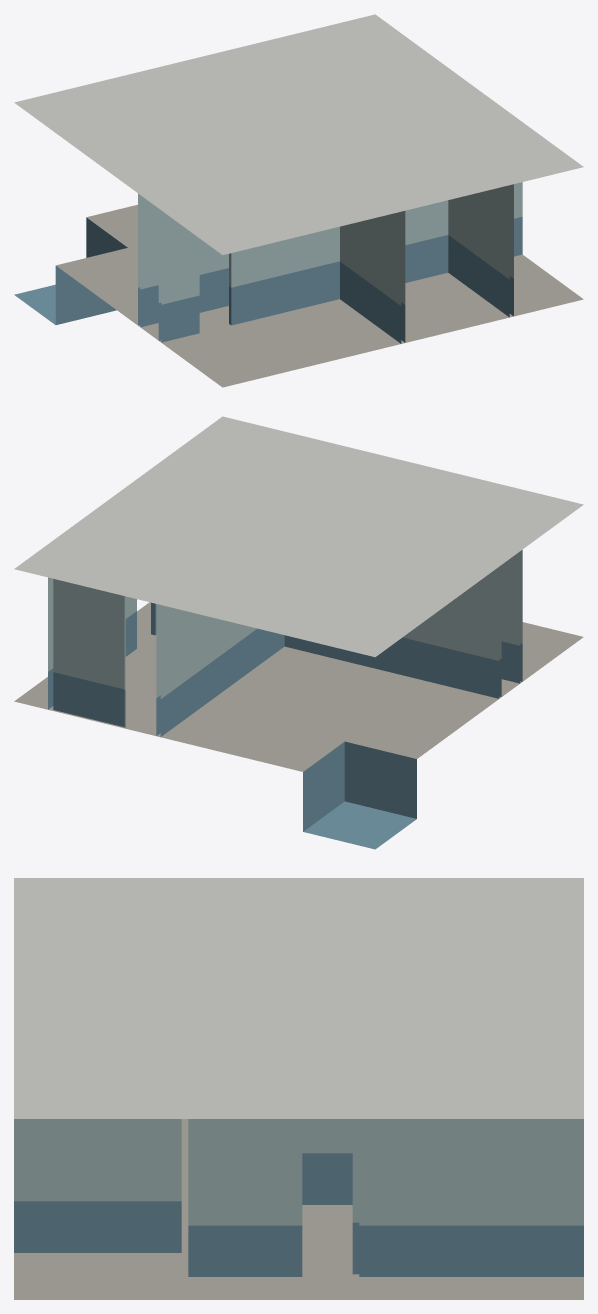
The model's file is chunk_2_1.glb.
3 views of the same model, one above another, from view 1: azimuth 30°, elevation 25°; view 2: azimuth 150°, elevation 25°; view 3: azimuth 270°, elevation 25° (orthographic). The views are drawn at different scales.
Parts seen in each view (by area): view 1: chunk_2_1; view 2: chunk_2_1; view 3: chunk_2_1.
Part boxes in pixels (box(x1,y1,x2,y2)): chunk_2_1: box(14, 14, 583, 387); chunk_2_1: box(14, 416, 583, 849); chunk_2_1: box(14, 878, 583, 1299).
Bounding box in the file's own units: 12 × 6.1 × 12.
